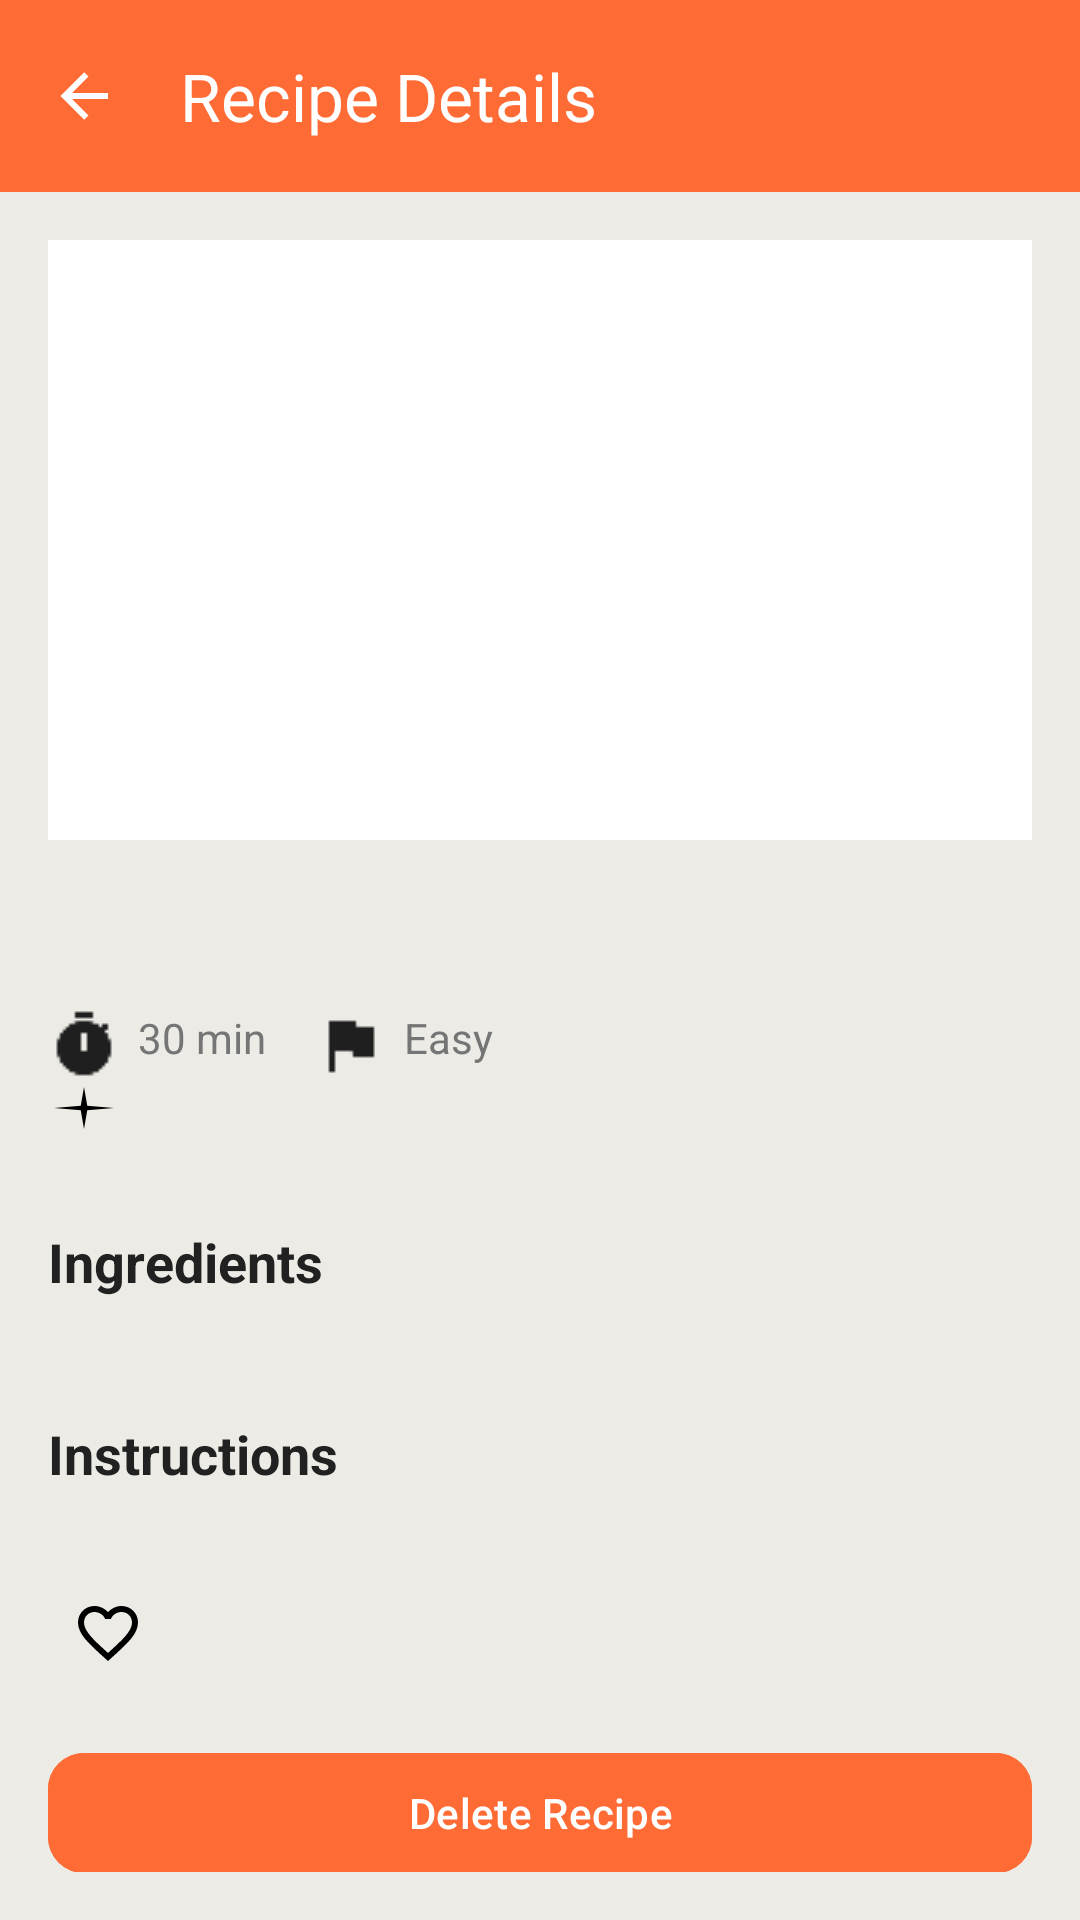

Where to tap for icons on this 1080*1920 app screen, as (x=x, y=y):
Favorite Button: (x=108, y=1633)
